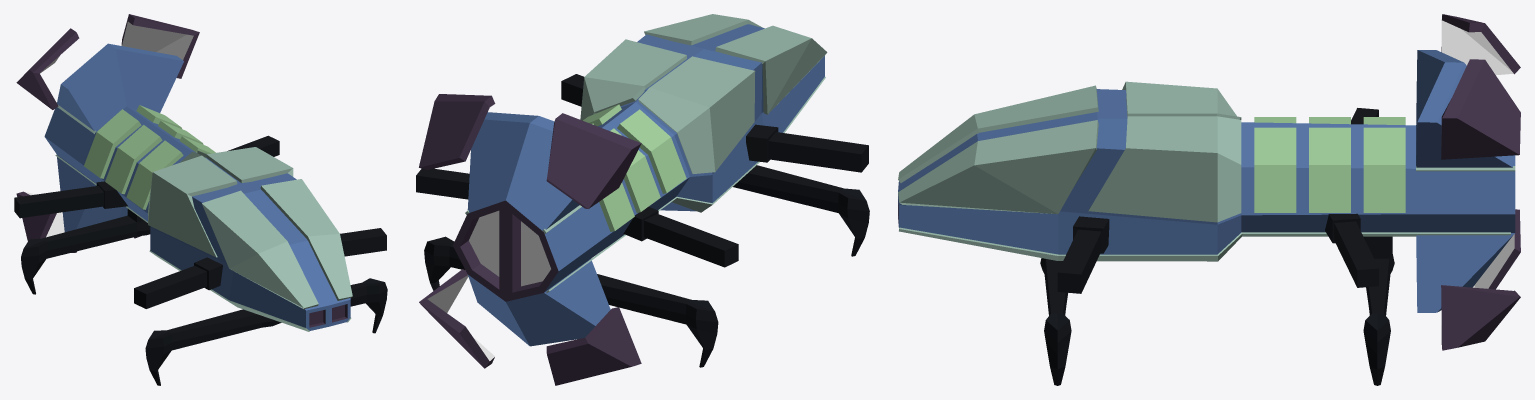
Rendered from Transport_Drone_Body.fbx.
3 renders of one model, left to right at view 1: azimuth 30°, elevation 25°; view 2: azimuth 150°, elevation 25°; view 3: azimuth 270°, elevation 25°, orthographic. The views are drawn at different scales.
Visible parts, largest first — view 1: TransportDrone_Body_LOD0; view 2: TransportDrone_Body_LOD0; view 3: TransportDrone_Body_LOD0.
Part boxes in pixels (x1,y1,x2,y2): TransportDrone_Body_LOD0: [14, 14, 387, 385]; TransportDrone_Body_LOD0: [416, 14, 869, 385]; TransportDrone_Body_LOD0: [898, 14, 1520, 385].
Size of what is drawn, in the model's own units: 481 by 390 by 780.
